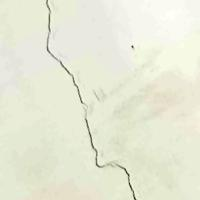crack: (39, 0, 144, 199)
